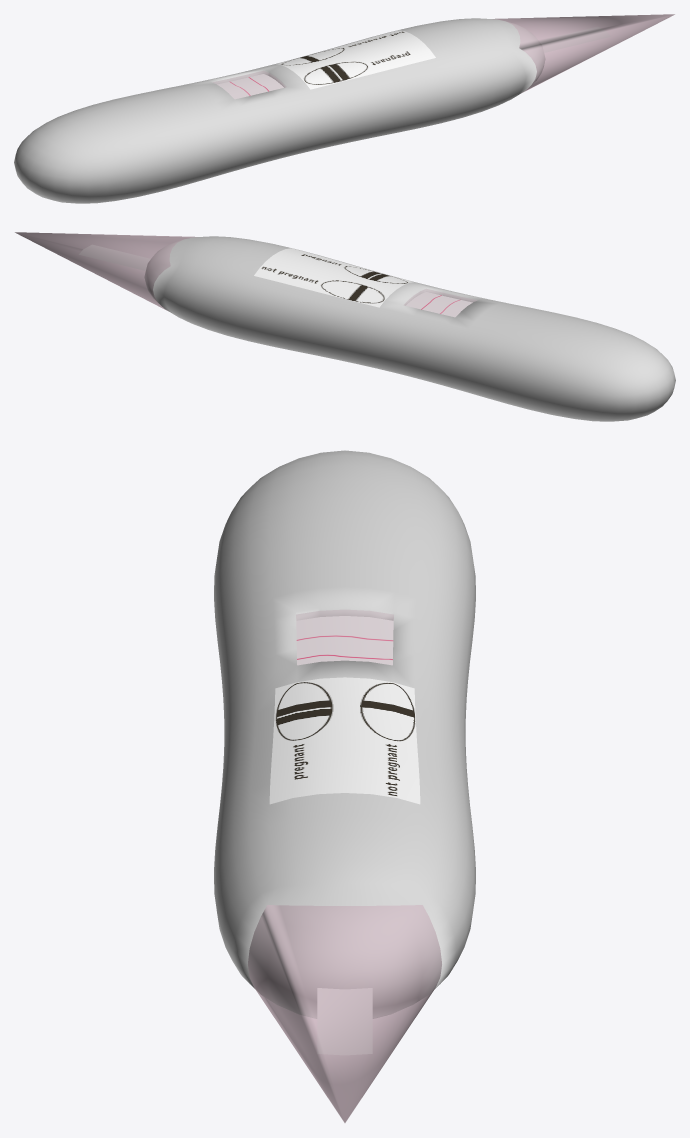
File: pregnancy test.fbx
The picture shows the model from 3 angles, top to bottom: view 1: azimuth 30°, elevation 25°; view 2: azimuth 150°, elevation 25°; view 3: azimuth 270°, elevation 25°; orthographic projection. The views are drawn at different scales.
Parts seen in each view (by area): view 1: Main Body, Flap Lid.001, Flap Lid, Instructions, Line Lid, Line, Flap2, Flap; view 2: Main Body, Flap Lid.001, Flap Lid, Instructions, Line Lid, Line, Flap2; view 3: Main Body, Flap Lid.001, Flap Lid, Instructions, Line Lid, Line, Flap2.
Part boxes in pixels (box(x1,y1,x2,y2)): Main Body: box(14, 18, 545, 203); Flap Lid.001: box(493, 14, 674, 92); Flap Lid: box(497, 14, 674, 91); Instructions: box(276, 30, 435, 89); Line Lid: box(213, 71, 285, 98); Line: box(217, 74, 283, 99); Flap2: box(539, 27, 608, 49); Flap: box(543, 31, 610, 52); Main Body: box(144, 236, 675, 421); Flap Lid.001: box(15, 232, 196, 310); Flap Lid: box(15, 232, 192, 309); Instructions: box(254, 248, 413, 307); Line Lid: box(404, 289, 476, 316); Line: box(406, 292, 472, 317); Flap2: box(79, 245, 147, 270); Main Body: box(214, 450, 475, 1018); Flap Lid.001: box(248, 905, 441, 1122); Flap Lid: box(248, 905, 441, 1122); Instructions: box(269, 677, 420, 804); Line Lid: box(296, 610, 393, 664); Line: box(296, 616, 393, 665); Flap2: box(317, 988, 372, 1054).
Bounding box in the file's own units: 902 × 103 × 156.
Materials: 4 (2 with a texture image).
